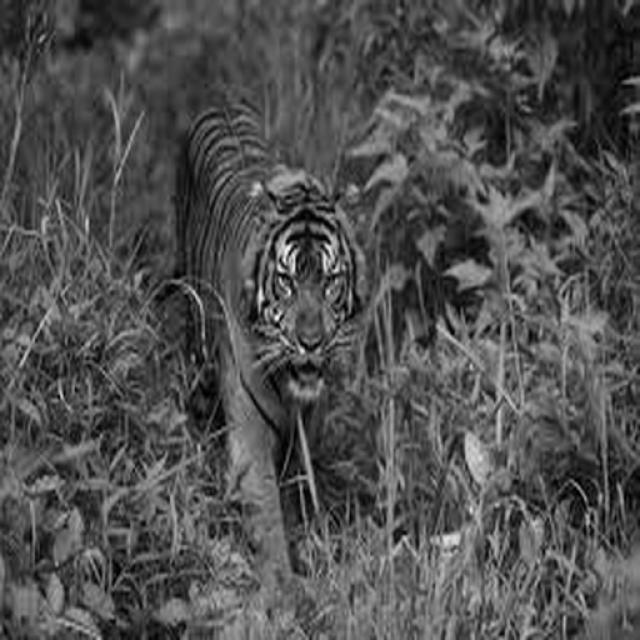Tiger: (154, 94, 374, 610)
